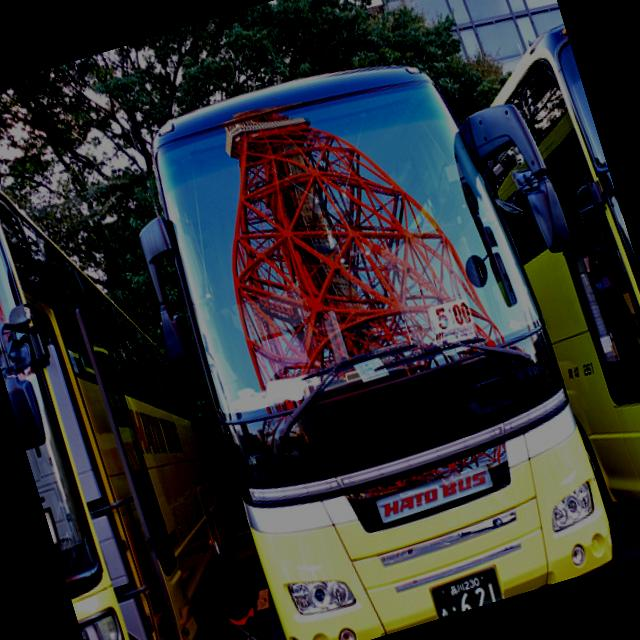Vehicle: (98, 13, 640, 640), (0, 114, 275, 640), (444, 21, 640, 538)
